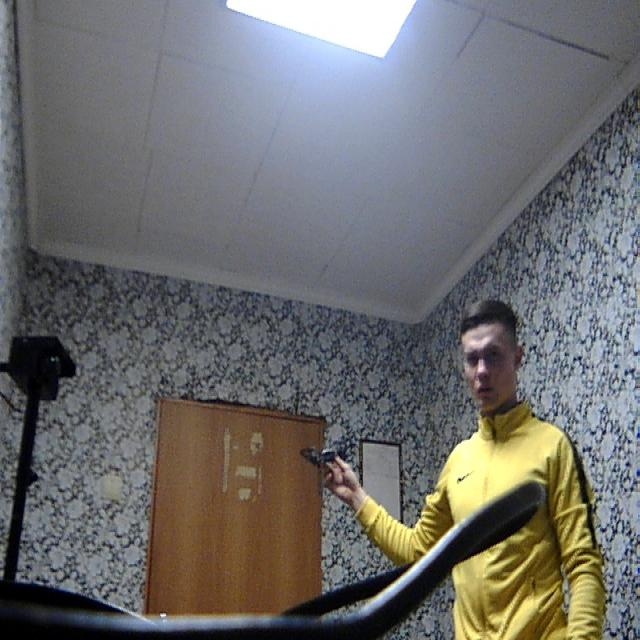drone: (297, 433, 363, 475)
